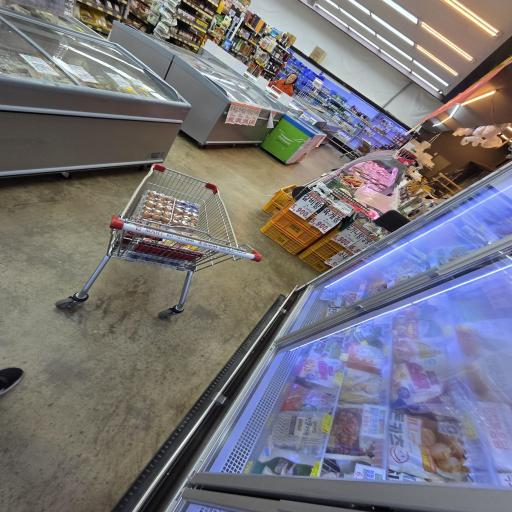fully_cart: (62, 156, 267, 321)
